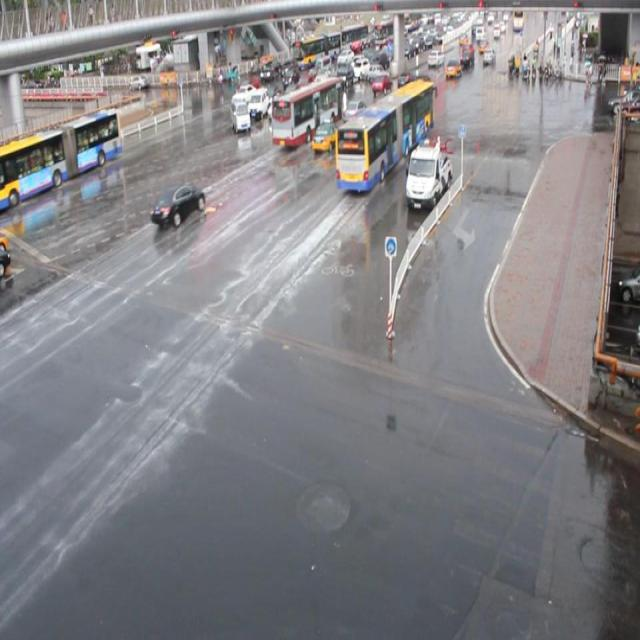bus: (403, 142, 450, 210)
car: (150, 184, 205, 226), (311, 118, 340, 150), (342, 99, 369, 123), (292, 90, 314, 116), (304, 80, 325, 106), (260, 83, 282, 107), (231, 84, 257, 104), (266, 96, 288, 119), (370, 73, 392, 95), (279, 82, 299, 106), (236, 76, 260, 95), (291, 75, 311, 97), (281, 68, 300, 87)
truck: (244, 88, 266, 120), (228, 98, 248, 132)
van: (1, 108, 122, 211), (334, 79, 434, 192), (271, 76, 342, 147)
